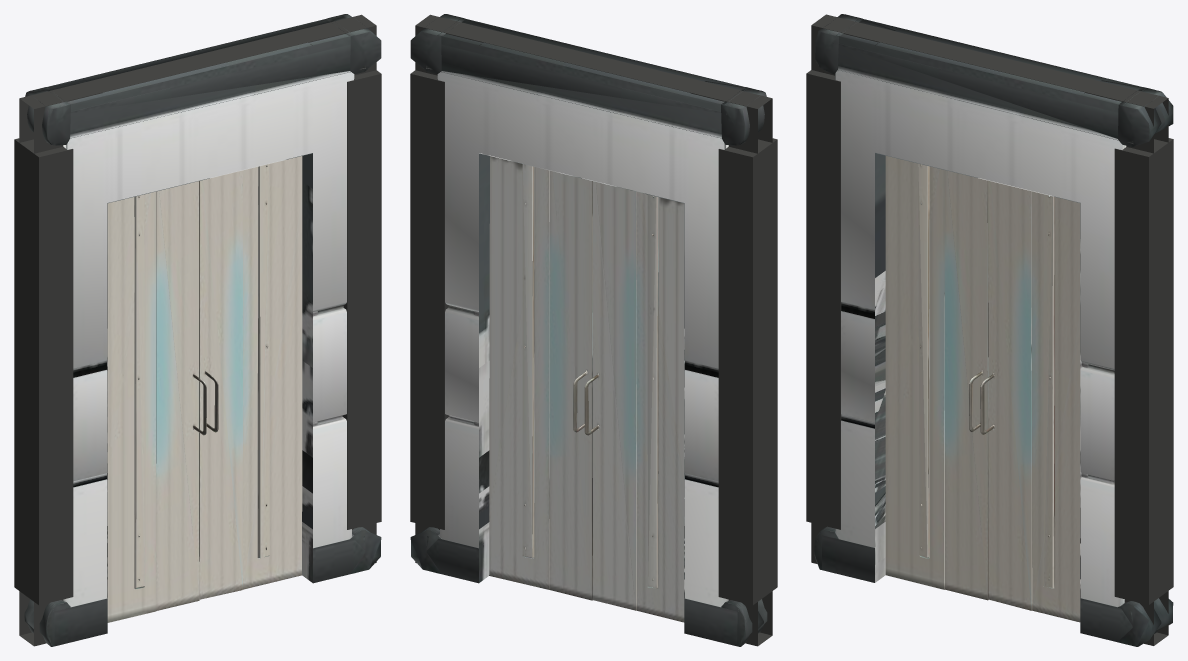
The model's file is wall-door.glb.
3 renders of one model, left to right at view 1: azimuth 30°, elevation 25°; view 2: azimuth 150°, elevation 25°; view 3: azimuth 330°, elevation 25°, orthographic.
Bounding box in the file's own units: 2 × 3 × 0.3.
2 materials, 2 textured.
